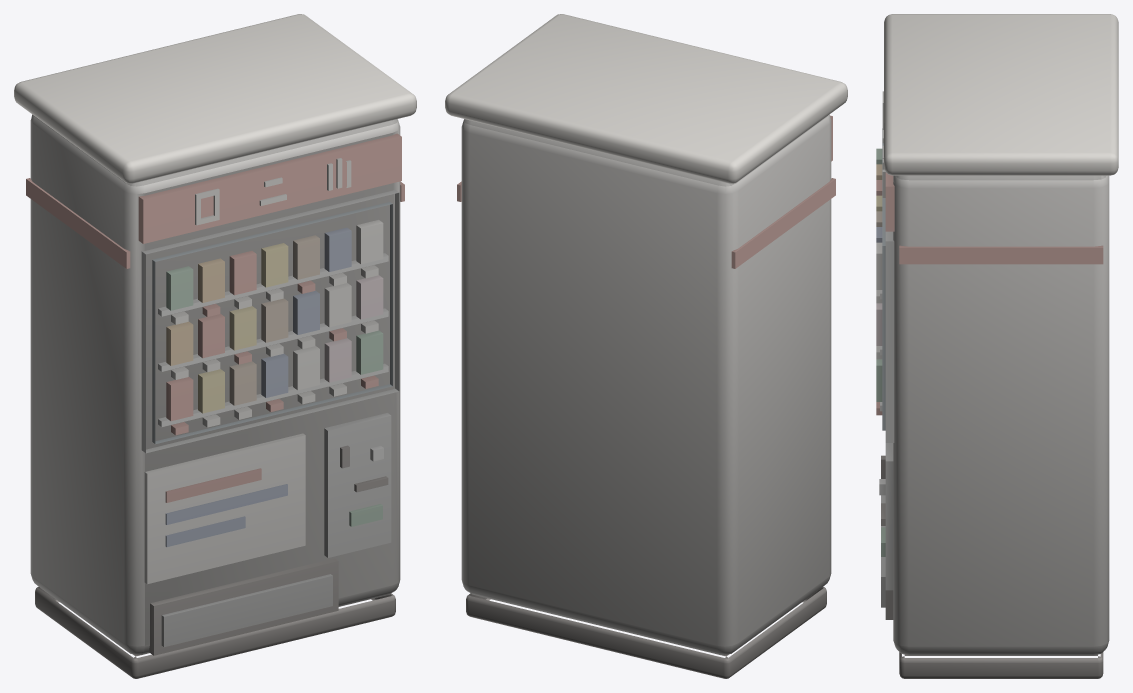
File: vending.glb
3 views of the same model, side by side, from view 1: azimuth 30°, elevation 25°; view 2: azimuth 150°, elevation 25°; view 3: azimuth 270°, elevation 25° (orthographic).
Visible parts, largest first — view 1: vending.001; view 2: vending.001; view 3: vending.001.
Boxes of the visible parts, box(x1,y1,x2,y2) form: vending.001: box(14, 14, 416, 678); vending.001: box(445, 14, 847, 678); vending.001: box(876, 14, 1118, 678).
Bounding box in the file's own units: 1.11 × 1.9 × 0.785.
